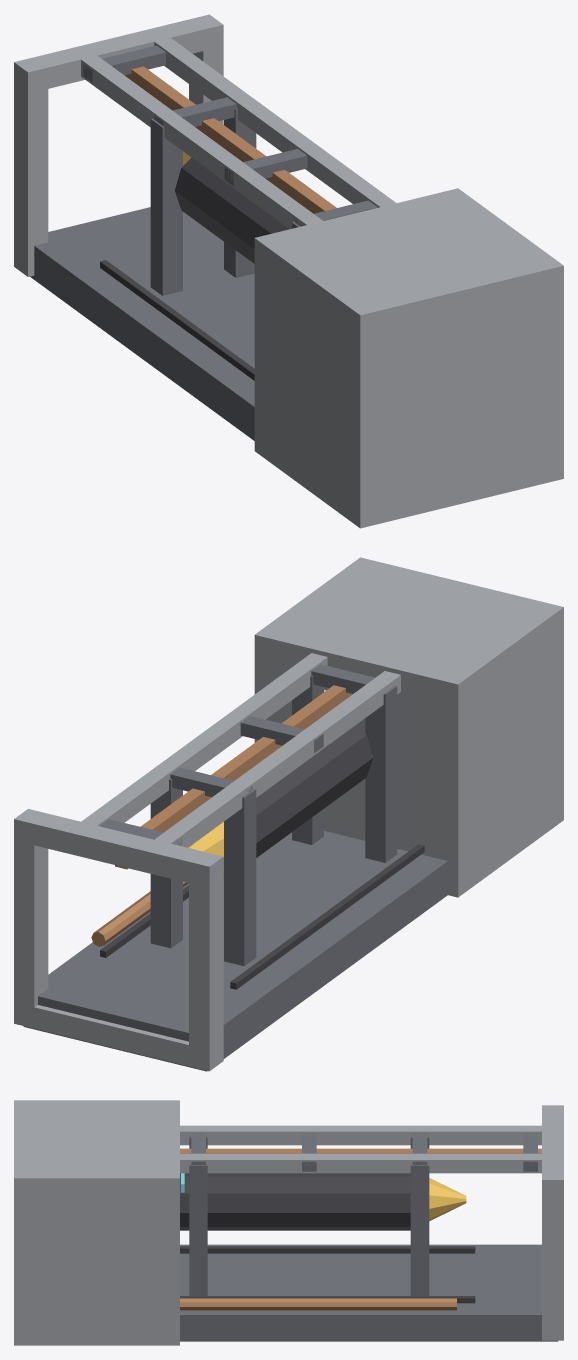
The model's file is bay_rail.glb.
3 renders of one model, top to bottom at view 1: azimuth 30°, elevation 25°; view 2: azimuth 150°, elevation 25°; view 3: azimuth 270°, elevation 25°, orthographic. The views are drawn at different scales.
Size of the model in its own units: 1 by 1 by 2.98.
